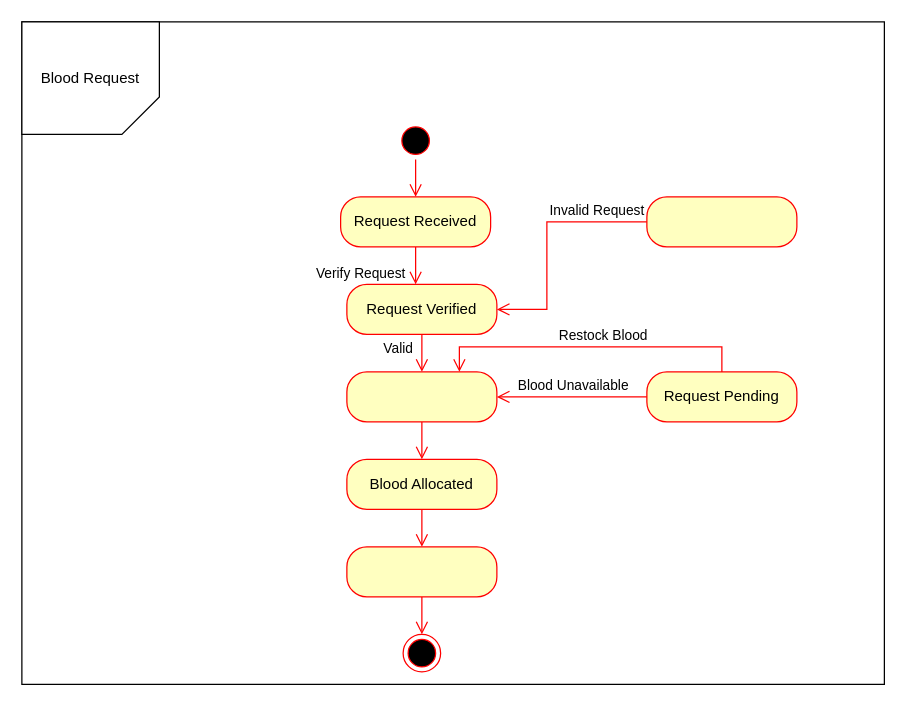
This 906x706 diagram has some shape labels left out. The shapes that lost their labels are listed below. From the top down, each one's box as (x1, y1, x2, y2) in pixels, then its label:
(646, 196, 797, 247): Request Rejected
(346, 371, 497, 422): Inventry Checked
(346, 546, 497, 597): Request Fulfilled
